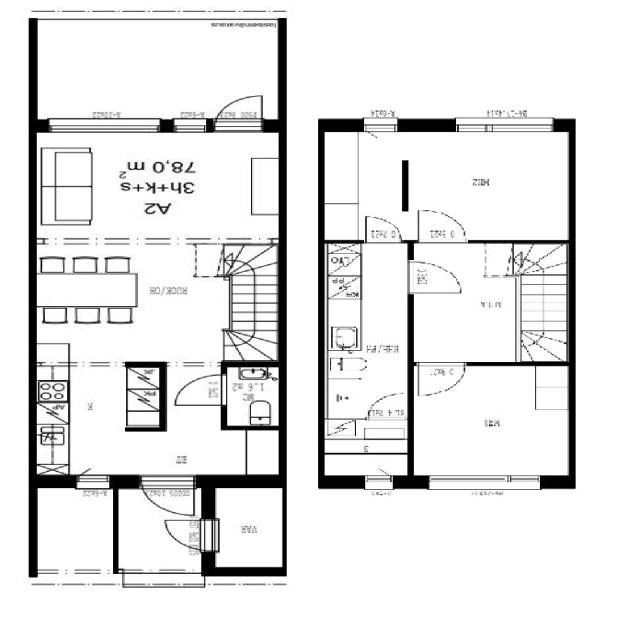door: (410, 358, 471, 400), (138, 476, 198, 518), (404, 259, 469, 297), (412, 205, 472, 243), (171, 372, 230, 410), (158, 517, 215, 553), (214, 92, 266, 127), (362, 214, 406, 244), (361, 116, 402, 144), (367, 392, 408, 420), (74, 472, 114, 489), (363, 474, 395, 495)
window: (39, 111, 168, 137), (443, 112, 565, 138), (418, 471, 552, 493), (165, 114, 214, 133), (74, 472, 114, 488)
zone: (33, 242, 285, 363), (37, 129, 279, 243), (402, 240, 564, 363), (406, 126, 574, 243), (408, 364, 574, 480), (324, 240, 411, 432), (35, 364, 162, 481), (214, 485, 285, 572), (222, 364, 282, 428)
